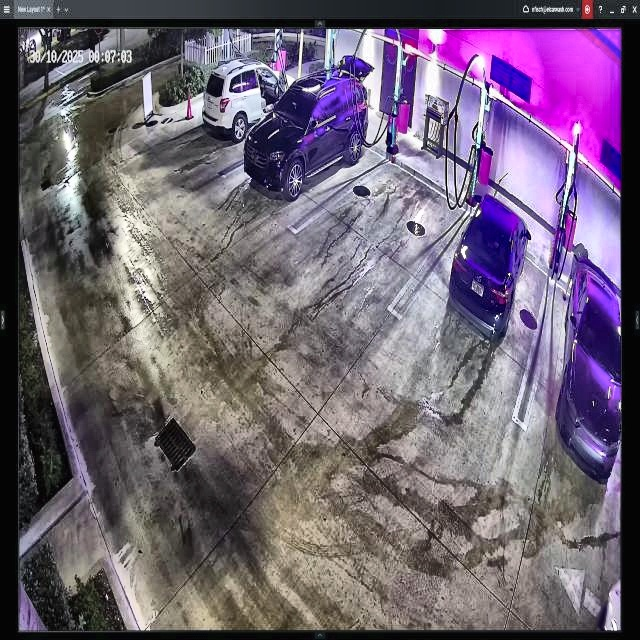Car: (245, 55, 373, 199), (449, 188, 531, 337), (202, 61, 298, 139)
